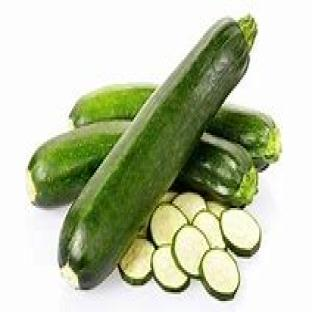Zucchini: (58, 18, 256, 287), (28, 120, 130, 205), (177, 133, 257, 205), (208, 107, 281, 170), (70, 85, 155, 126), (201, 248, 239, 300), (221, 208, 260, 256), (173, 226, 208, 276), (118, 237, 154, 285), (152, 246, 189, 292), (151, 204, 188, 245), (193, 211, 225, 247), (173, 193, 206, 223), (207, 202, 226, 219), (159, 191, 178, 203)
